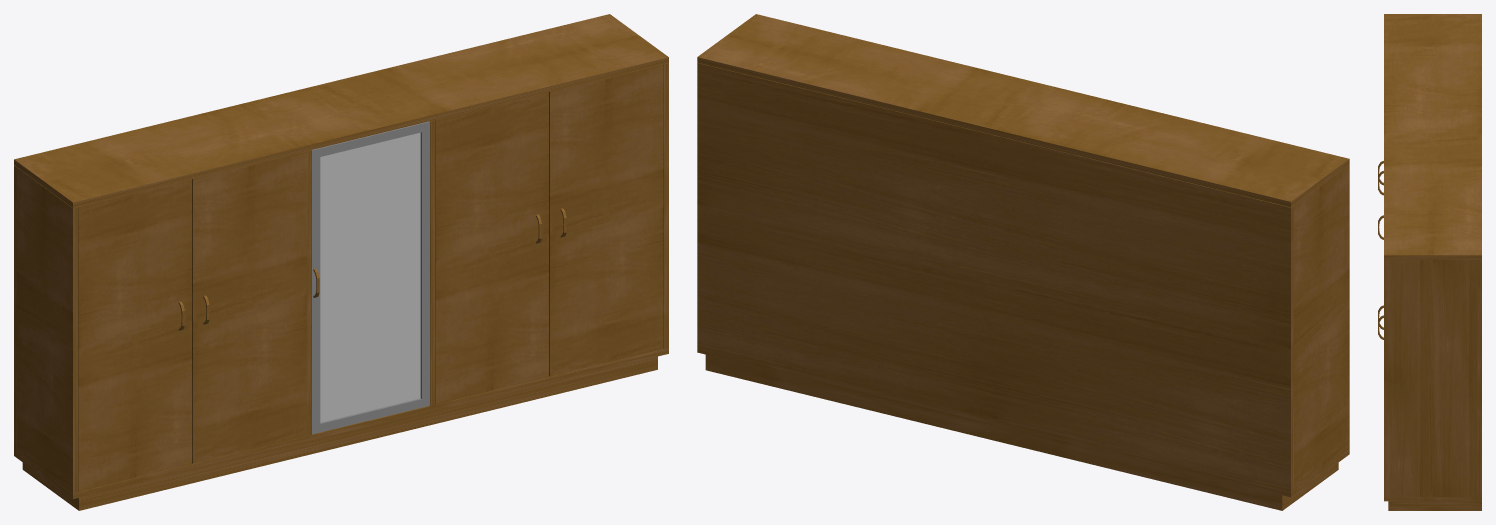
The model's file is office_furniture1.obj.
3 renders of one model, left to right at view 1: azimuth 30°, elevation 25°; view 2: azimuth 150°, elevation 25°; view 3: azimuth 270°, elevation 25°, orthographic. The views are drawn at different scales.
Parts seen in each view (by area): view 1: oficina_armario_Cube.000, glass_Cube; view 2: oficina_armario_Cube.000; view 3: oficina_armario_Cube.000, Handles_oficina_armario_Cube.014.
Boxes of the visible parts, x1,y1,x2,y2 form: oficina_armario_Cube.000: (14, 14, 668, 510); glass_Cube: (320, 132, 420, 422); oficina_armario_Cube.000: (697, 14, 1349, 510); oficina_armario_Cube.000: (1384, 14, 1481, 510); Handles_oficina_armario_Cube.014: (1378, 161, 1383, 339).
Bounding box in the file's own units: 2.99 × 1.5 × 0.5437.
